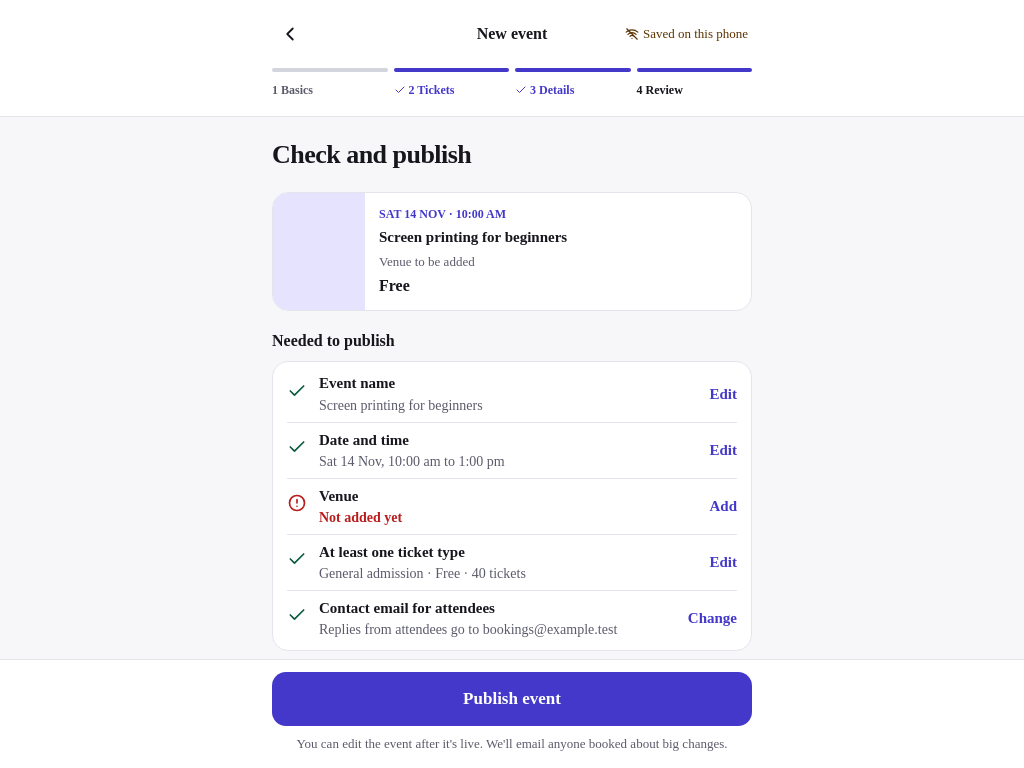
Test: create-event wizard › review and publish › explains what is missing instead of publishing
expect the link named "Back to details" is shown: met, box [279,23,301,45]
expect the link "1 Basics" is shown: met, box [272,83,313,97]
Click the button "Publish event" at (512, 700), box [272,672,752,726]
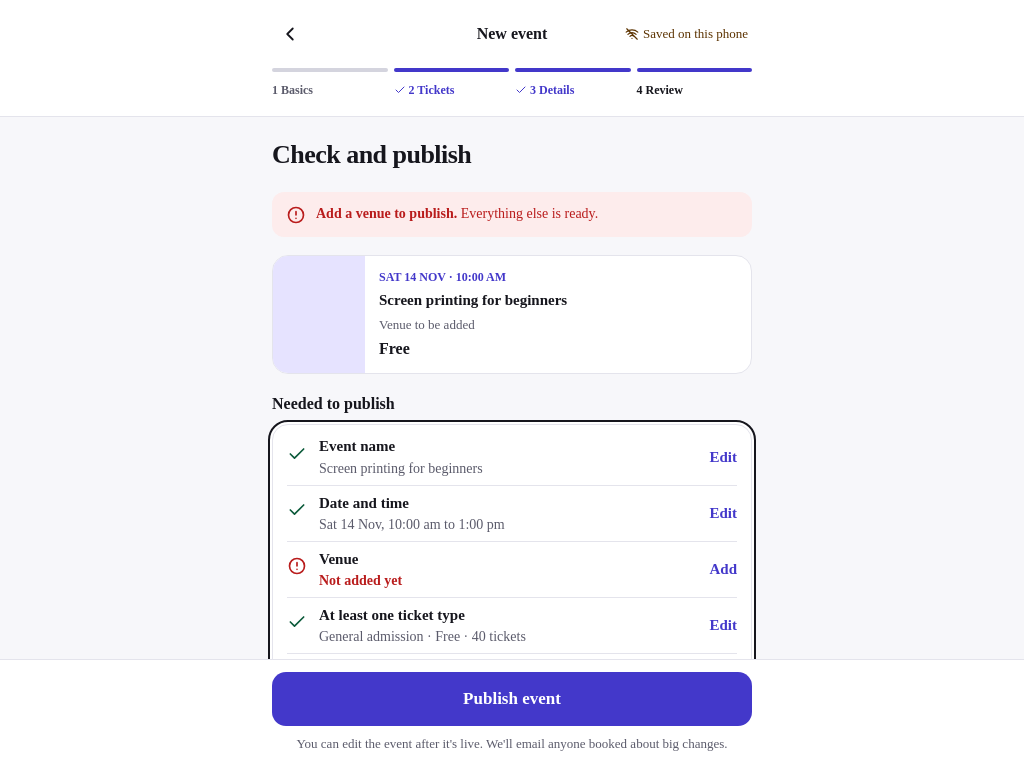
expect the text "Not added yet" is shown: met, box [319,573,402,588]
expect the message "Add a venue to publish. Everything else is ready." is shown: met, box [272,192,752,237]
